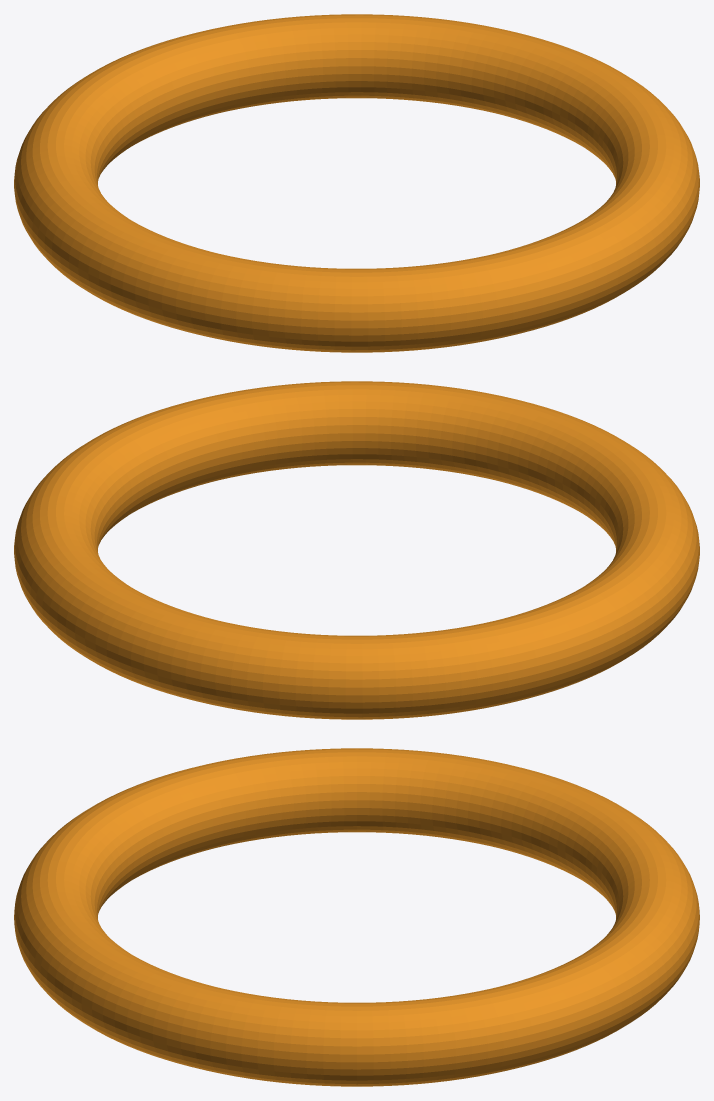
The model's file is note.fbx.
3 views of the same model, one above another, from view 1: azimuth 30°, elevation 25°; view 2: azimuth 150°, elevation 25°; view 3: azimuth 270°, elevation 25° (orthographic).
Visible parts, largest first — view 1: Note; view 2: Note; view 3: Note.
Boxes of the visible parts, left/top/right/bottom form: Note: left=14, top=14, right=699, bottom=352; Note: left=14, top=381, right=699, bottom=719; Note: left=14, top=748, right=699, bottom=1086.
Size of what is drawn, in the model's own units: 80.89 by 9.9 by 80.89.
